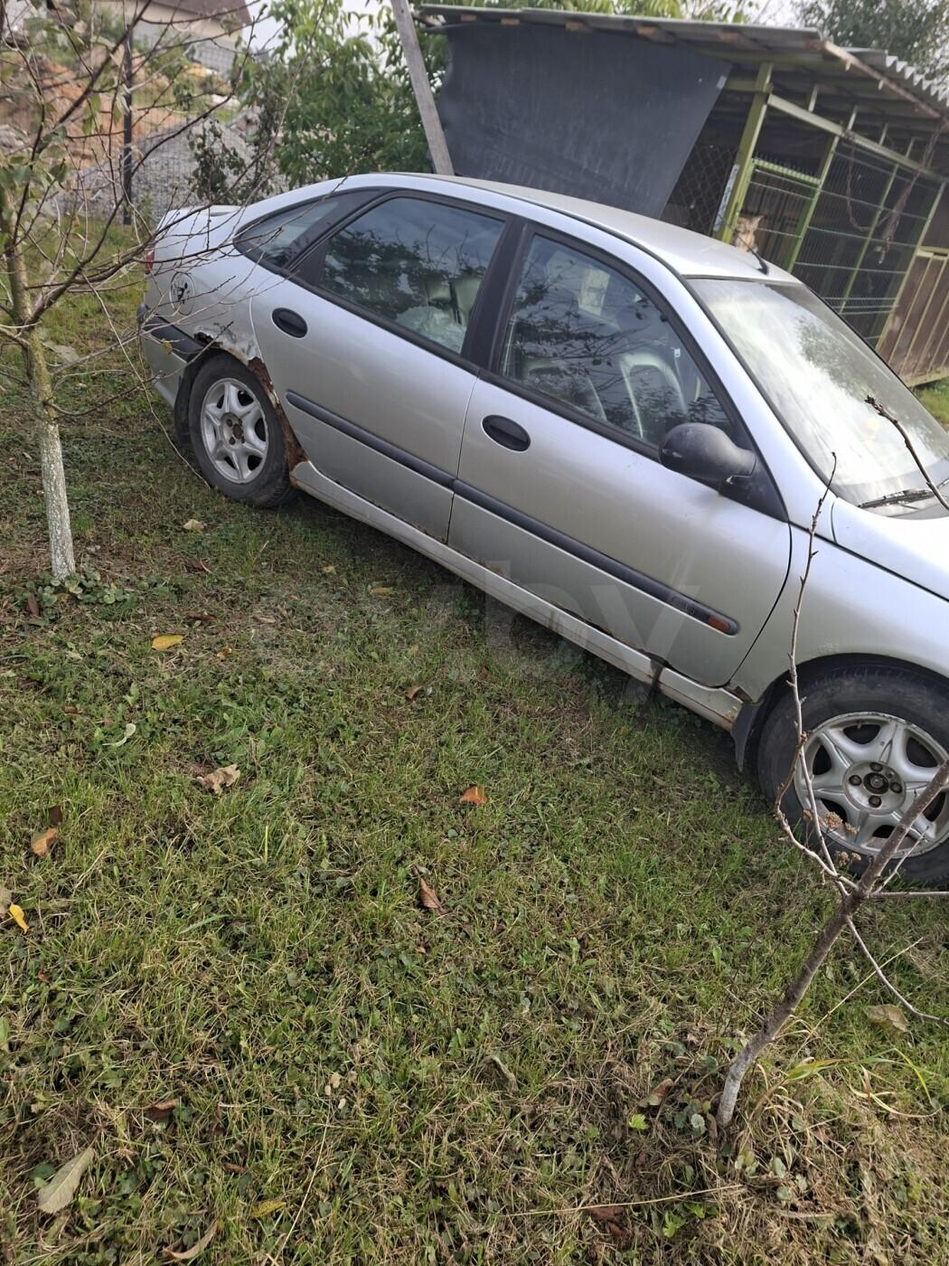Lahuna_1993-1999: (157, 168, 949, 870)
